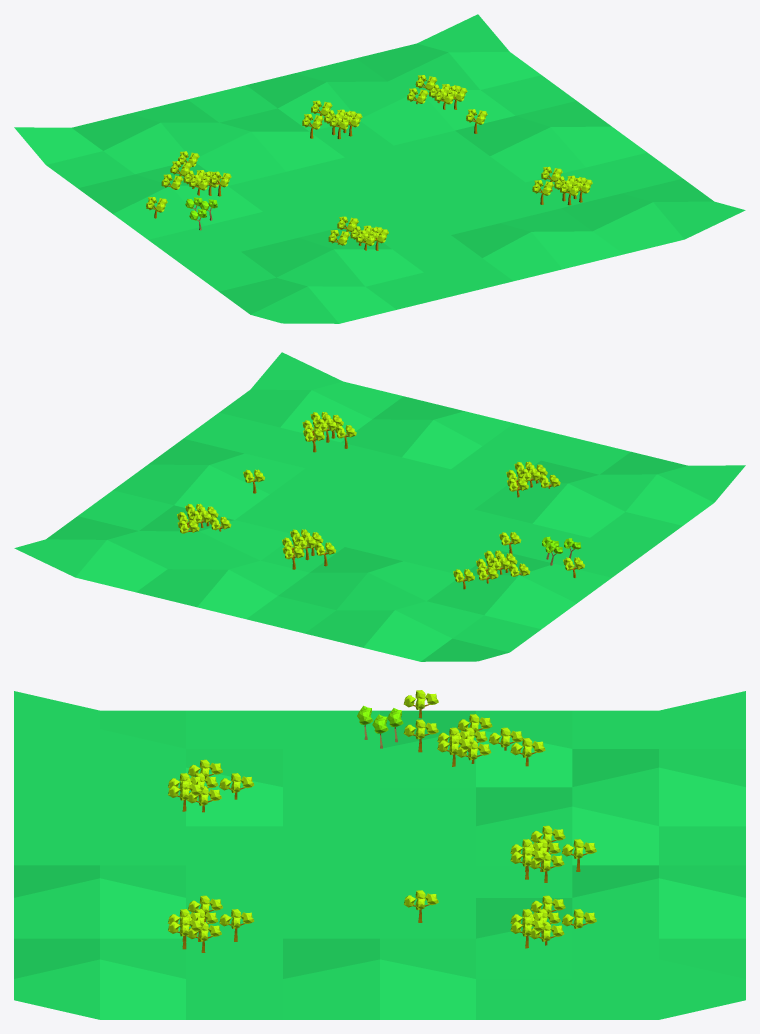
Rendered from backgroudn.fbx.
3 views of the same model, one above another, from view 1: azimuth 30°, elevation 25°; view 2: azimuth 150°, elevation 25°; view 3: azimuth 270°, elevation 25° (orthographic). The views are drawn at different scales.
Visible parts, largest first — view 1: Plane; view 2: Plane; view 3: Plane.
Part boxes in pixels (x1,y1,x2,y2): Plane: [14, 14, 745, 323]; Plane: [14, 352, 745, 661]; Plane: [14, 691, 745, 1019].
Size of the model in its own units: 2717 by 193 by 2717.
